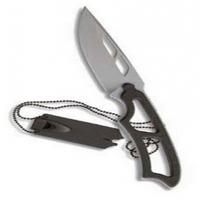knife: (75, 2, 179, 189)
